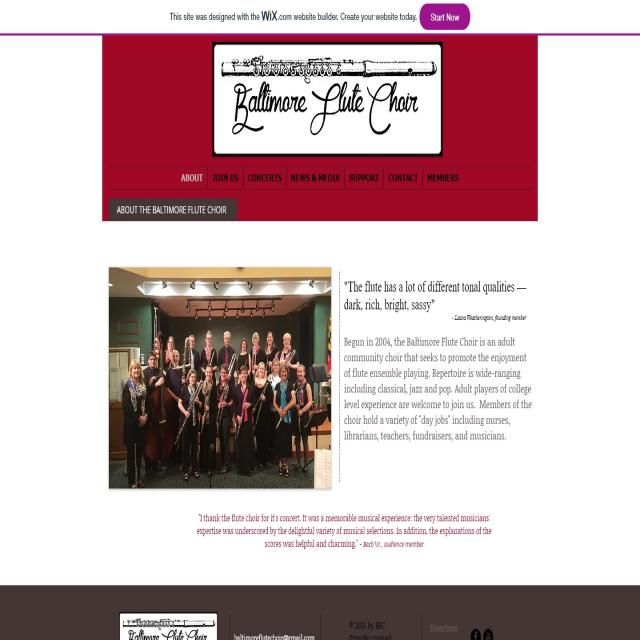button: (286, 168, 344, 190), (244, 167, 286, 190), (344, 167, 383, 189), (208, 166, 243, 190), (423, 167, 463, 188), (384, 168, 423, 188), (177, 165, 207, 188)
iframe: (1, 5, 638, 32)
image: (109, 266, 334, 490), (212, 43, 439, 156)
text: (343, 276, 540, 448), (196, 509, 494, 556), (116, 203, 229, 217)
